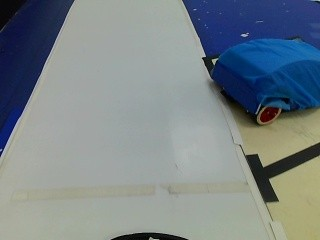car: (210, 36, 320, 126)
